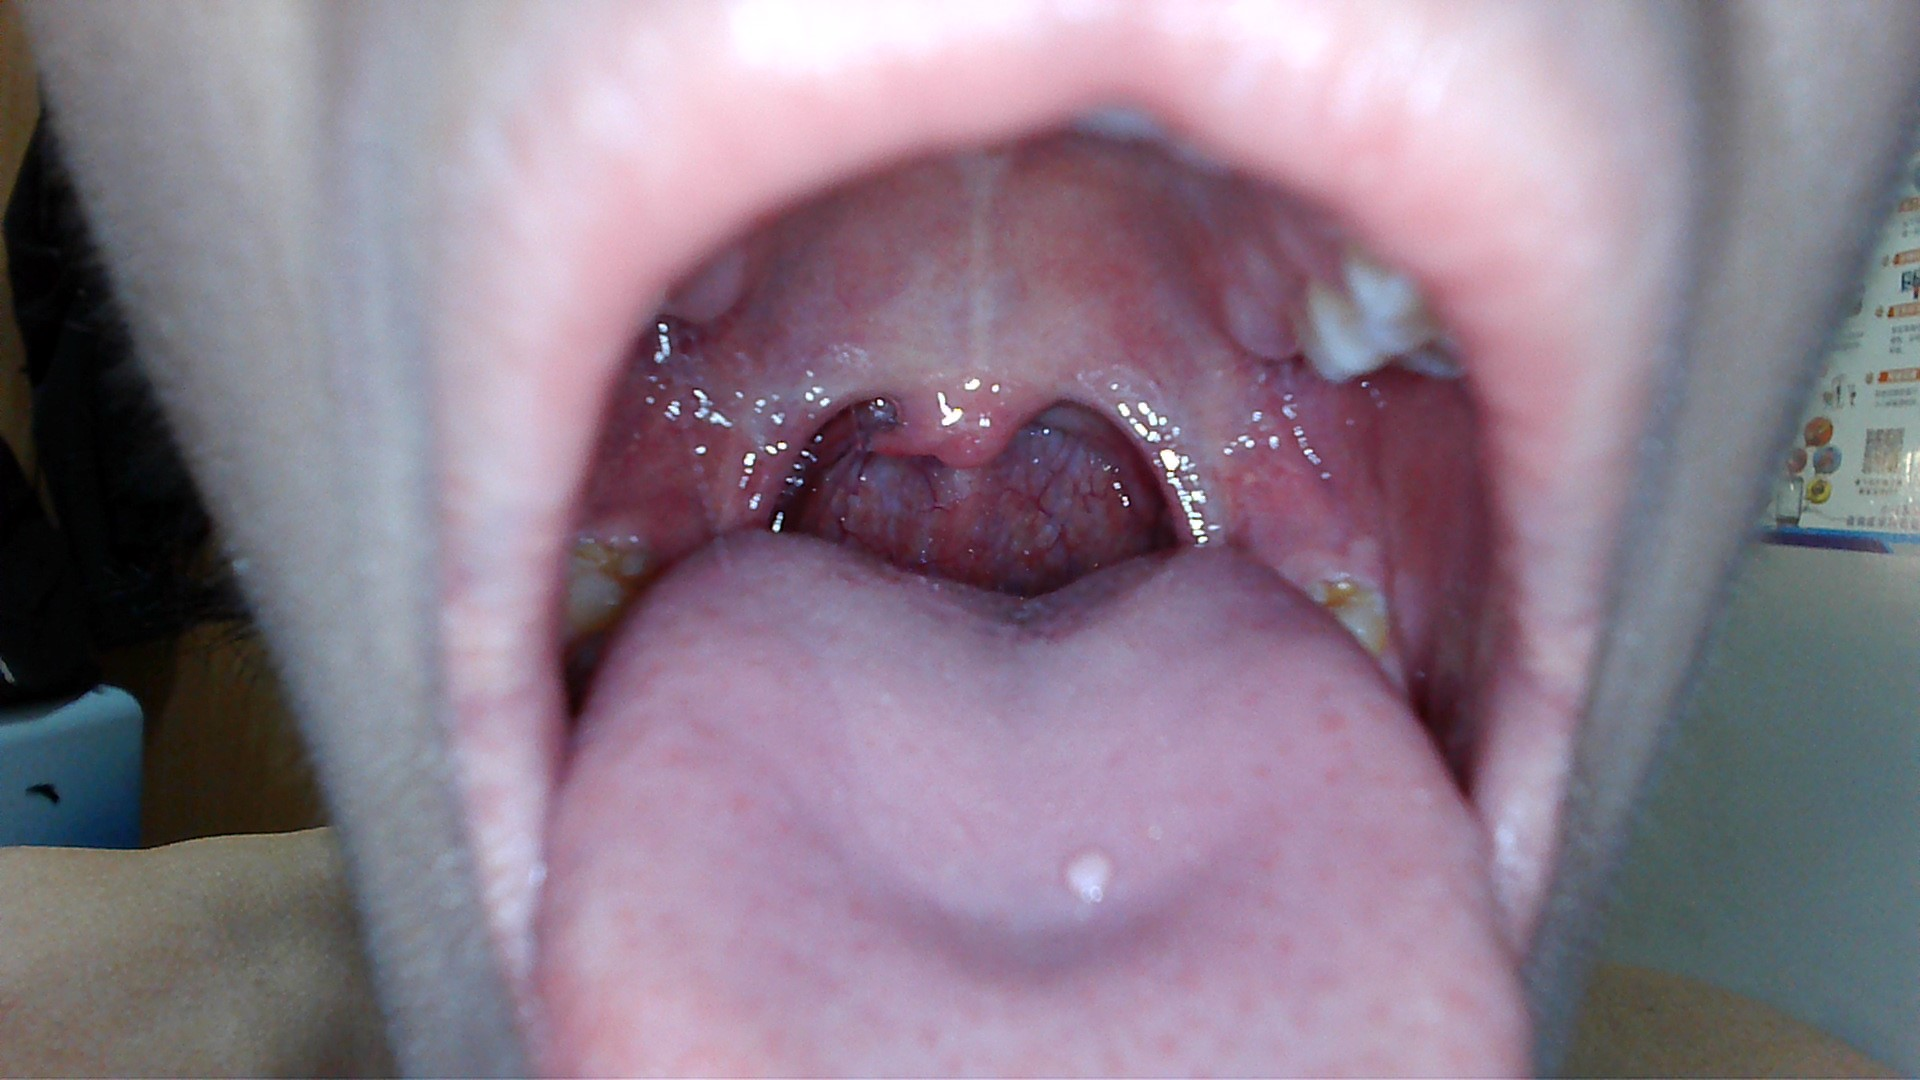throat: (1077, 324, 1222, 545), (713, 348, 833, 527)
